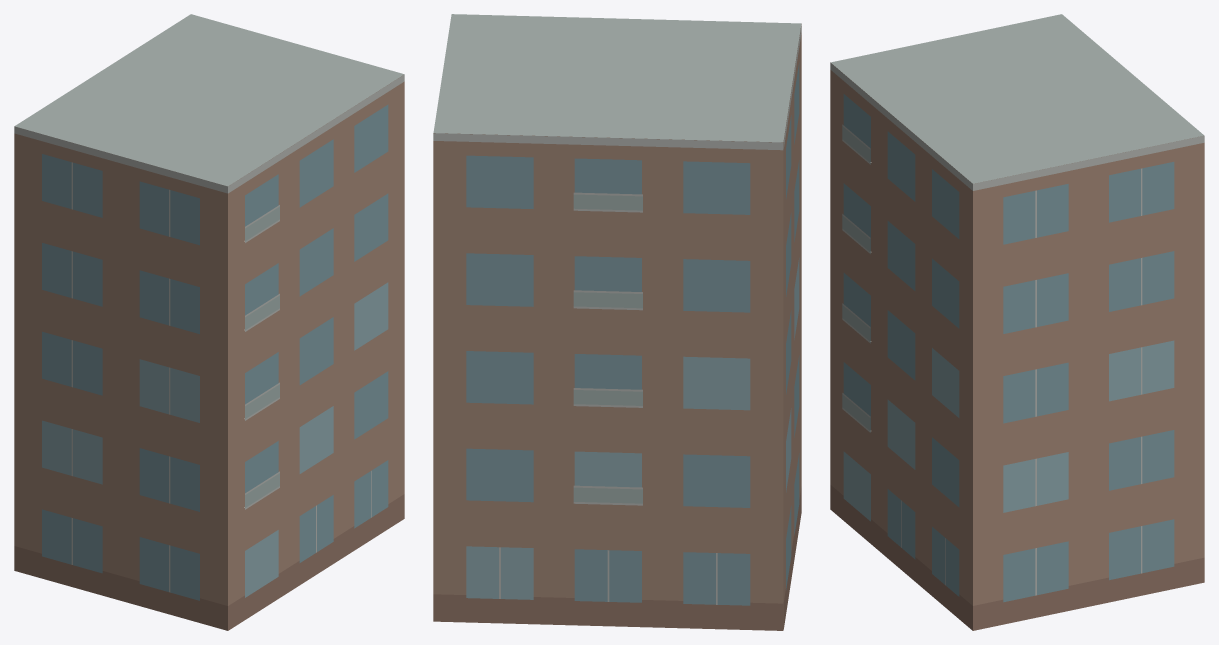
File: residential-094eb155-2f01-41f4-b539-b1f8c00ea29b.glb
The picture shows the model from 3 angles, left to right: view 1: azimuth 30°, elevation 25°; view 2: azimuth 150°, elevation 25°; view 3: azimuth 270°, elevation 25°; orthographic projection. The views are drawn at different scales.
Parts seen in each view (by area): view 1: residential-094eb155-2f01-41f4-b539-b1f8c00ea29b.tmp; view 2: residential-094eb155-2f01-41f4-b539-b1f8c00ea29b.tmp; view 3: residential-094eb155-2f01-41f4-b539-b1f8c00ea29b.tmp.
Part boxes in pixels (bbox=[...]): residential-094eb155-2f01-41f4-b539-b1f8c00ea29b.tmp: bbox=[14, 14, 404, 630]; residential-094eb155-2f01-41f4-b539-b1f8c00ea29b.tmp: bbox=[433, 14, 801, 630]; residential-094eb155-2f01-41f4-b539-b1f8c00ea29b.tmp: bbox=[830, 14, 1204, 630].
Bounding box in the file's own units: 12.44 × 15.25 × 11.58.
